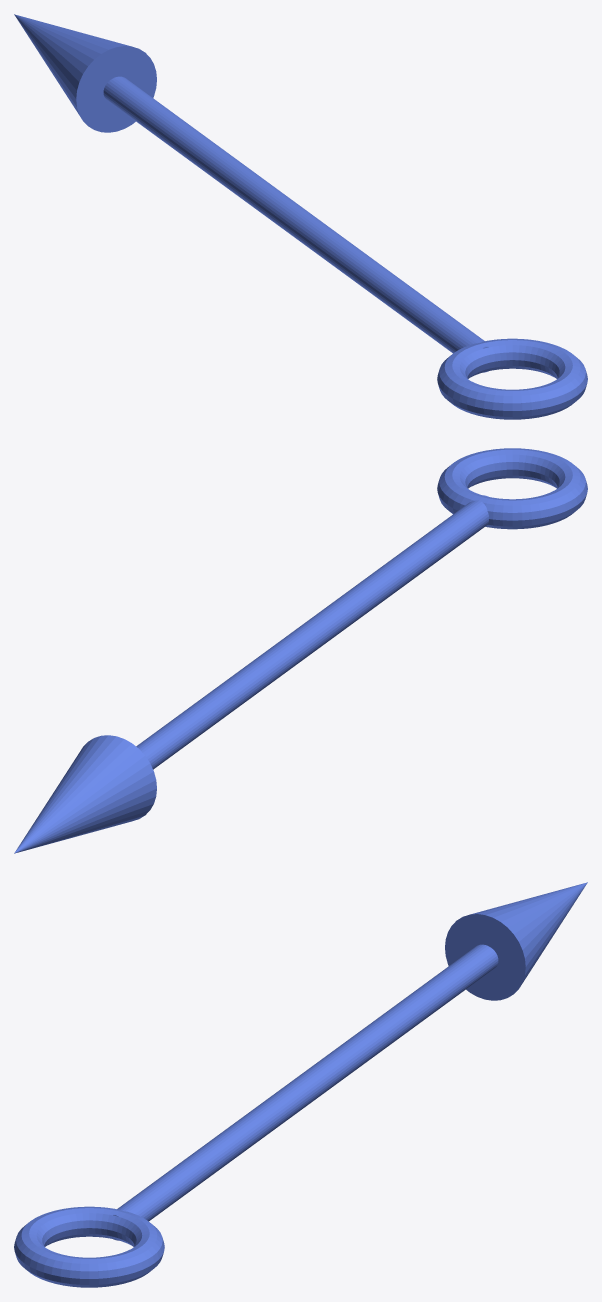
File: secHand.fbx
3 views of the same model, one above another, from view 1: azimuth 30°, elevation 25°; view 2: azimuth 150°, elevation 25°; view 3: azimuth 330°, elevation 25° (orthographic).
Parts seen in each view (by area): view 1: secHand; view 2: secHand; view 3: secHand.
Part boxes in pixels (x1=…): secHand: x1=14, y1=14, x2=587, y2=419; secHand: x1=14, y1=448, x2=587, y2=853; secHand: x1=14, y1=882, x2=587, y2=1287.
Bounding box in the file's own units: 197 × 122 × 1404.
